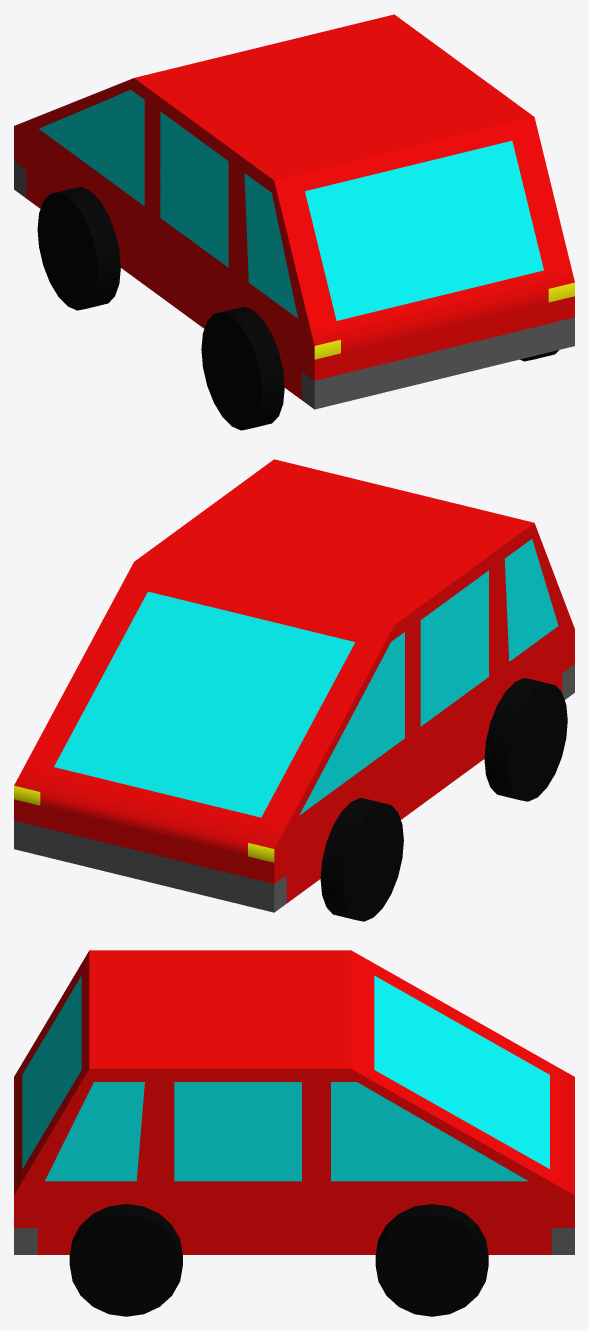
Rendered from Car.fbx.
The picture shows the model from 3 angles, top to bottom: view 1: azimuth 30°, elevation 25°; view 2: azimuth 150°, elevation 25°; view 3: azimuth 270°, elevation 25°; orthographic projection. The views are drawn at different scales.
Parts seen in each view (by area): view 1: Body1, Wheel4, Wheel1; view 2: Body1, Wheel1, Wheel4; view 3: Body1, Wheel2, Wheel3.
Part boxes in pixels (x1,y1,x2,y2): Body1: (14, 14, 574, 409); Wheel4: (201, 307, 284, 430); Wheel1: (37, 187, 120, 310); Body1: (14, 459, 574, 912); Wheel1: (320, 798, 403, 921); Wheel4: (484, 678, 567, 801); Body1: (14, 950, 574, 1254); Wheel2: (69, 1204, 182, 1316); Wheel3: (375, 1204, 488, 1316).
Bounding box in the file's own units: 2.35 × 1.87 × 4.
